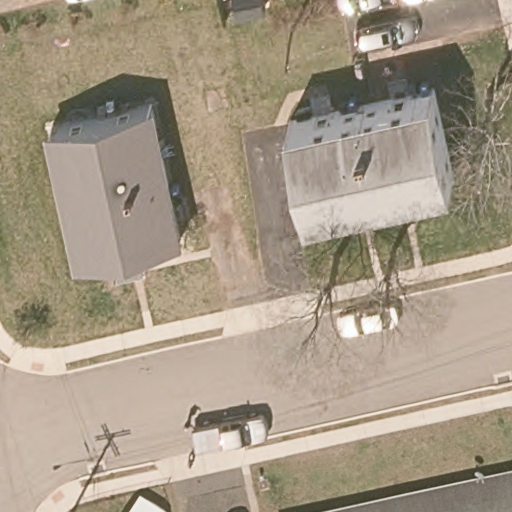DT: (67, 455, 104, 500)
